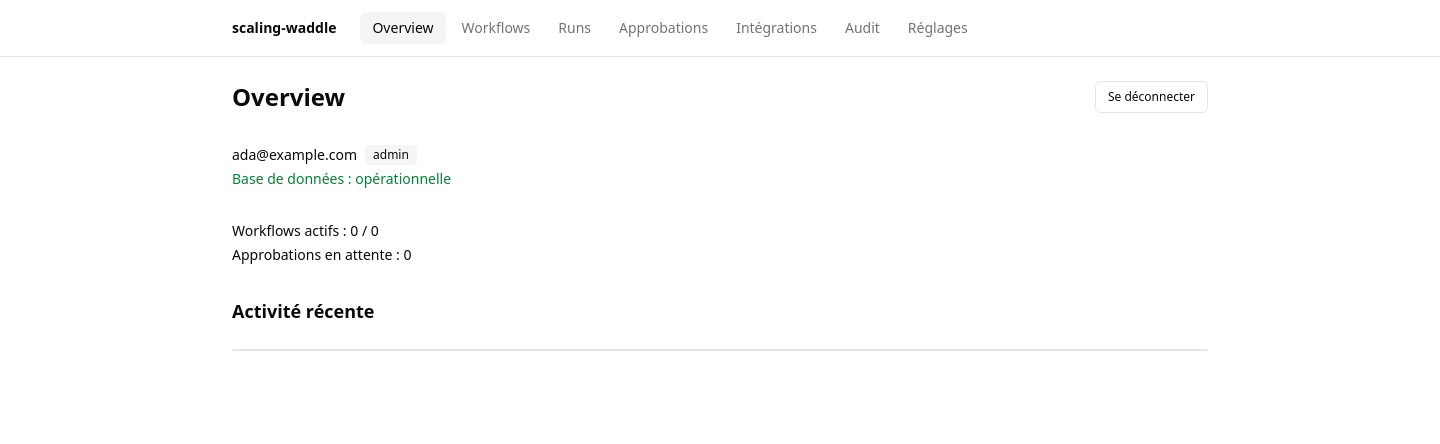
it: App routing › navigates between the overview, workflows and runs
The width and height of the screenshot is (1440, 444).
Click the link "Workflows".
click(496, 28)  # box x1=462 y1=18 x2=530 y2=37
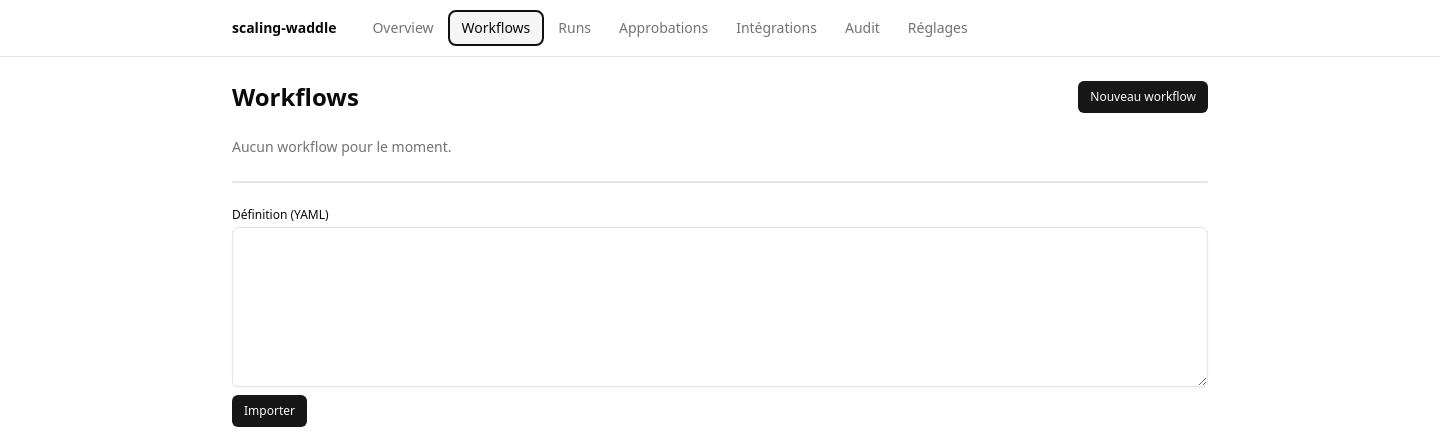
Now the text "Aucun workflow pour le moment." is shown, box x1=232 y1=137 x2=452 y2=156
Click the link "Runs".
click(575, 28)  # box x1=558 y1=18 x2=591 y2=37
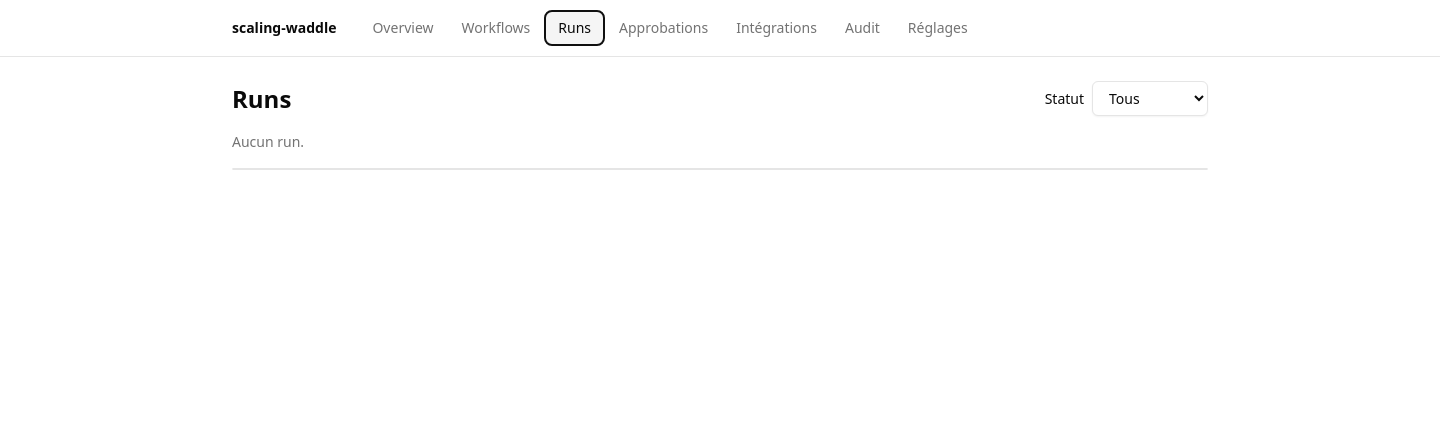
Now the text "Aucun run." is shown, box x1=232 y1=132 x2=304 y2=151
